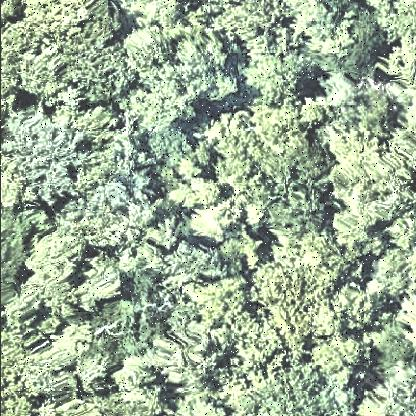tree-top: (240, 105, 336, 233), (127, 23, 233, 118), (255, 243, 337, 342), (2, 114, 81, 203), (228, 364, 346, 416), (54, 39, 131, 111), (316, 1, 381, 70), (26, 222, 90, 284), (103, 362, 171, 414), (160, 322, 220, 378), (242, 56, 308, 106), (332, 280, 384, 340), (78, 249, 130, 307), (310, 332, 368, 383), (1, 346, 39, 416), (371, 243, 416, 301), (190, 278, 245, 325), (357, 373, 416, 416), (164, 246, 226, 286), (187, 195, 236, 243), (172, 382, 231, 416), (119, 1, 187, 30), (401, 283, 416, 349), (2, 80, 22, 112), (4, 90, 26, 118), (1, 2, 30, 22)
